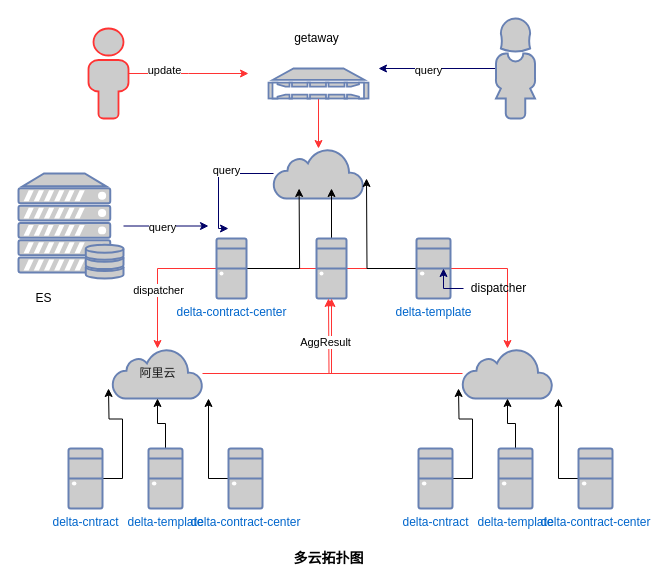
Some shapes in this 667 by 585 pixel diagram are drawn without their labels. Here are the shapes that lost their labels. From the top down, the centre of each, then its label:
At [318,173]: "中心云".
At [331,268]: "AGG应用".
At [507,373]: "华为云".
